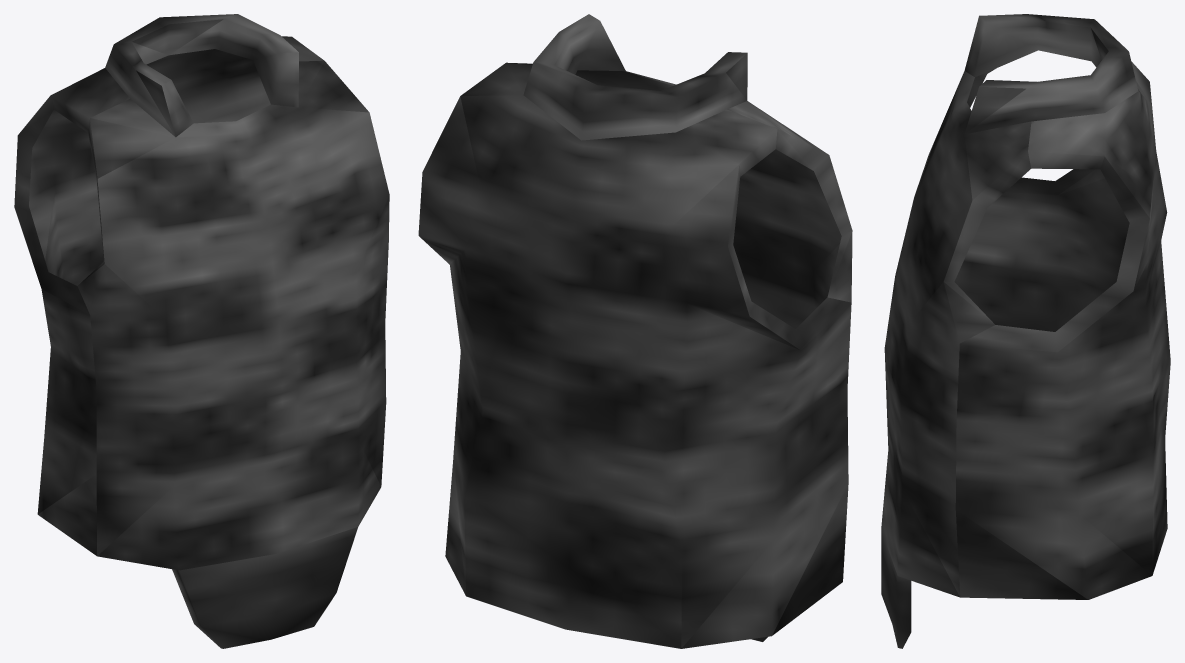
File: armor2.glb
The picture shows the model from 3 angles, left to right: view 1: azimuth 30°, elevation 25°; view 2: azimuth 150°, elevation 25°; view 3: azimuth 270°, elevation 25°; orthographic projection. The views are drawn at different scales.
Visible parts, largest first — view 1: vest; view 2: vest; view 3: vest.
Part boxes in pixels (x1,y1,x2,y2): vest: (14,14,389,648); vest: (418,14,852,648); vest: (881,14,1170,648).
Size of the model in its own units: 0.3806 by 0.65 by 0.2966.
Materials: 1 (1 with a texture image).
